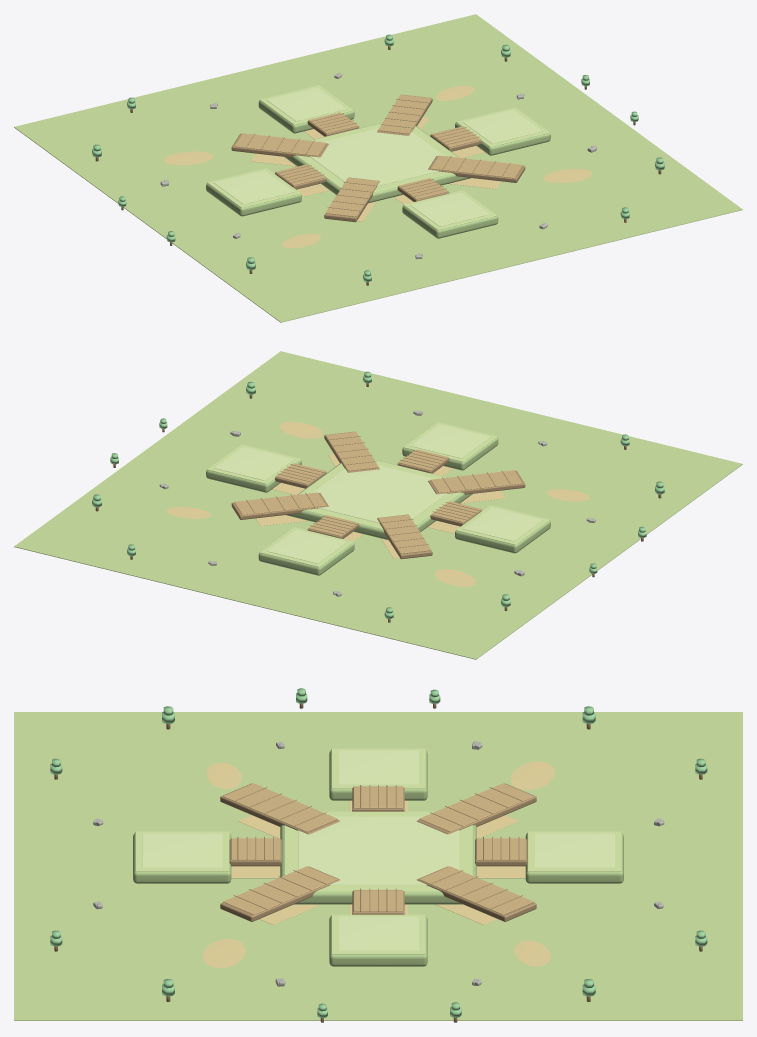
The model's file is commercial_slice_a_visuals.glb.
3 renders of one model, top to bottom at view 1: azimuth 30°, elevation 25°; view 2: azimuth 150°, elevation 25°; view 3: azimuth 270°, elevation 25°, orthographic. The views are drawn at different scales.
Visible parts, largest first — view 1: arena_backdrop_visual_plate, center_island_inner_soft_lip, north_island_inner_soft_lip, west_island_inner_soft_lip, east_island_inner_soft_lip, south_island_inner_soft_lip, center_island_top, bridge_se_deck, bridge_nw_deck, bridge_sw_deck, bridge_ne_deck, center_island_skirt (+15 smaller); view 2: arena_backdrop_visual_plate, center_island_inner_soft_lip, south_island_inner_soft_lip, west_island_inner_soft_lip, east_island_inner_soft_lip, north_island_inner_soft_lip, center_island_top, bridge_ne_deck, bridge_sw_deck, bridge_nw_deck, bridge_se_deck, center_island_skirt (+15 smaller); view 3: arena_backdrop_visual_plate, center_island_inner_soft_lip, west_island_inner_soft_lip, east_island_inner_soft_lip, north_island_inner_soft_lip, south_island_inner_soft_lip, center_island_top, bridge_ne_deck, bridge_se_deck, bridge_nw_deck, bridge_sw_deck, center_island_skirt (+23 smaller).
Part boxes in pixels (x1,y1,x2,y2): arena_backdrop_visual_plate: (14,14,742,322); center_island_inner_soft_lip: (310,128,444,185); north_island_inner_soft_lip: (267,87,346,121); west_island_inner_soft_lip: (214,170,293,204); east_island_inner_soft_lip: (463,109,542,143); south_island_inner_soft_lip: (410,192,489,226); center_island_top: (296,123,457,192); bridge_se_deck: (430,155,522,178); bridge_nw_deck: (234,133,325,155); bridge_sw_deck: (325,177,378,216); bridge_ne_deck: (378,94,431,133); center_island_skirt: (284,122,470,203); arena_backdrop_visual_plate: (14,351,742,659); center_island_inner_soft_lip: (312,465,446,522); south_island_inner_soft_lip: (410,424,489,458); west_island_inner_soft_lip: (463,507,542,541); east_island_inner_soft_lip: (214,446,293,480); north_island_inner_soft_lip: (267,529,346,563); center_island_top: (299,460,460,529); bridge_ne_deck: (234,492,326,515); bridge_sw_deck: (431,470,522,492); bridge_nw_deck: (378,514,431,553); bridge_se_deck: (325,431,378,470); center_island_skirt: (286,459,472,540); arena_backdrop_visual_plate: (14,712,742,1020); center_island_inner_soft_lip: (298,816,458,884); west_island_inner_soft_lip: (338,750,418,784); east_island_inner_soft_lip: (338,916,418,950); north_island_inner_soft_lip: (534,833,614,867); south_island_inner_soft_lip: (142,833,222,867); center_island_top: (284,811,472,891); bridge_ne_deck: (419,866,533,914); bridge_se_deck: (223,866,337,914); bridge_nw_deck: (419,783,533,831); bridge_sw_deck: (223,783,337,831); center_island_skirt: (280,825,476,904).
Bounding box in the file's own units: 135 × 4.39 × 130.
